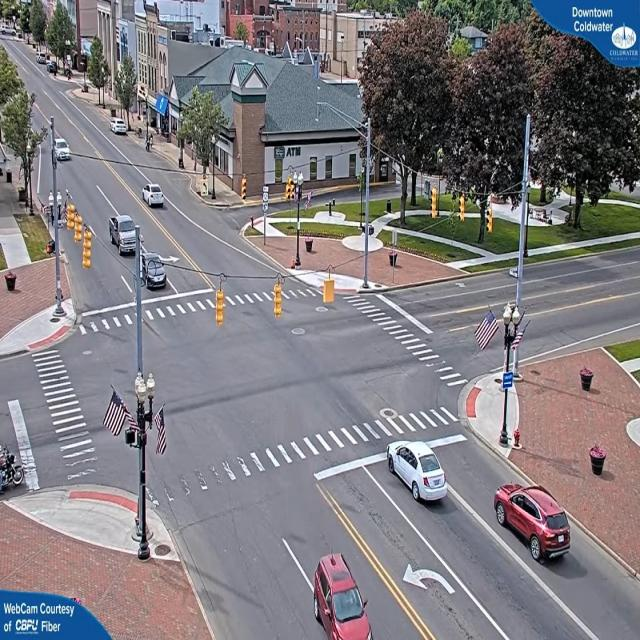car: (495, 486, 575, 564), (311, 555, 373, 639), (389, 442, 449, 503), (110, 215, 142, 255), (142, 253, 169, 289), (143, 184, 167, 210), (53, 135, 70, 160), (111, 120, 130, 138)
